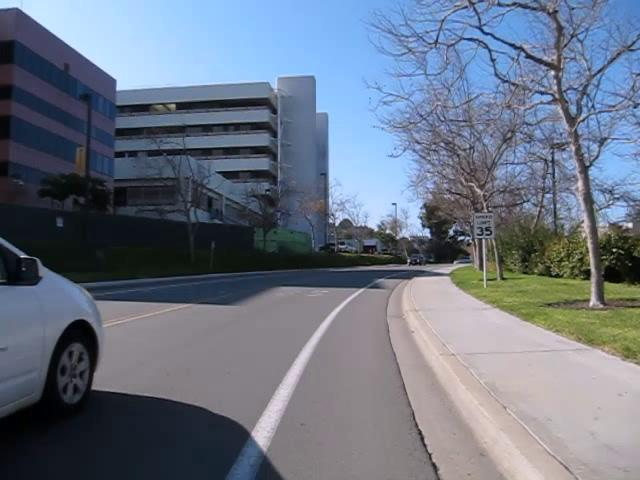speedLimit35: (472, 211, 494, 238)
